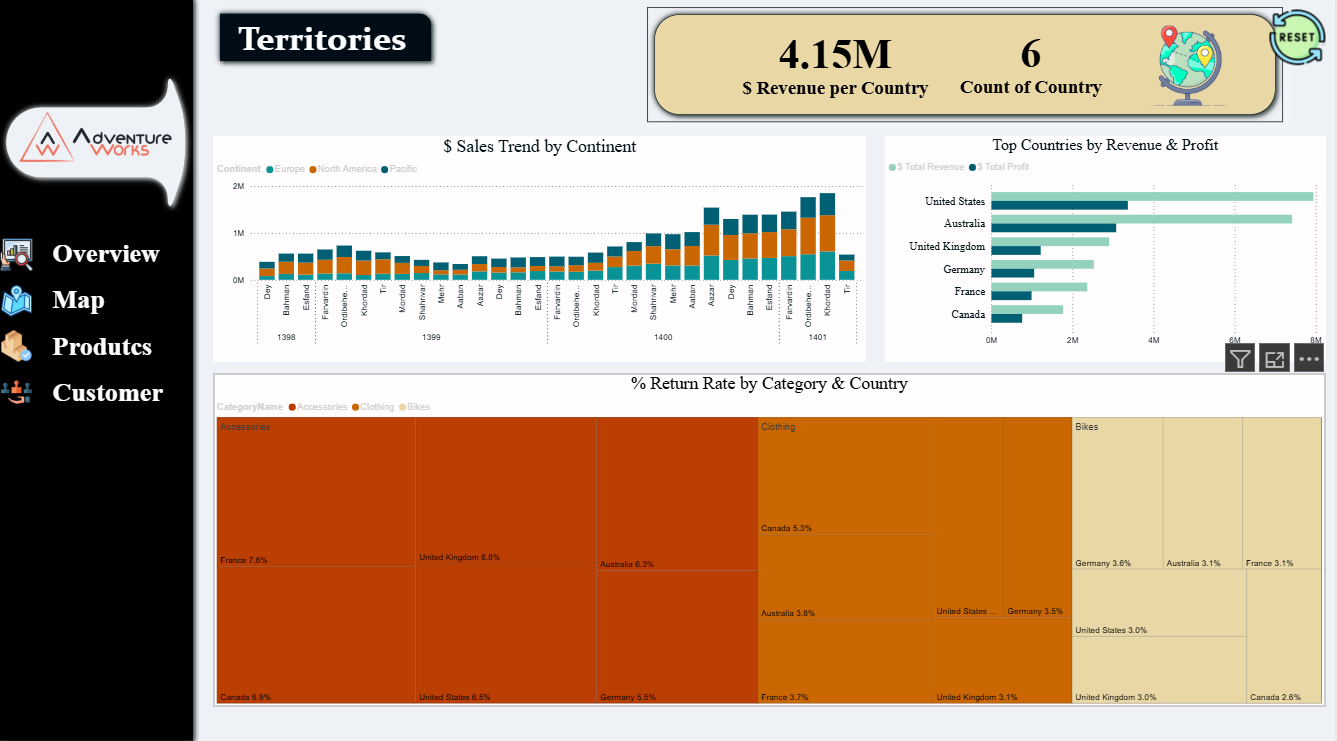

What the dashboard file says about the page in this screenshot:
{"tool":"powerbi","page":{"name":"Territories","canvas":[1920,1080],"ordinal":1},"visuals":[{"type":"shape","box":[0,0,297.5,1080],"z":0,"group":"g3"},{"type":"shape","box":[318,24,320,86],"z":0,"group":"g1"},{"type":"card","fields":{"Values":["Table Measure.$ Averege Revenue per Country"]},"box":[1038,6,338,186],"z":500,"group":"g2"},{"type":"shape","box":[12,98,286,236],"z":750,"group":"g3"},{"type":"image","box":[24,116,252,184],"z":875,"group":"g3"},{"type":"group","id":"g1","title":"Page Name","box":[318,24,320,95],"z":1000},{"type":"card","fields":{"Values":["Count(Territory Lookup.Country)"]},"box":[1336,28,300,142],"z":1000,"group":"g2"},{"type":"textbox","box":[348,34,270,85],"z":1000,"group":"g1"},{"type":"textbox","box":[64,348,234,56],"z":1000,"group":"g3"},{"type":"clusteredBarChart","title":"Top Countries by Revenue & Profit","fields":{"Y":["Table Measure.$ Total Revenue","Table Measure.$ Total Profit"],"Category":["Territory Lookup.Country"]},"box":[1276,208,630,322],"z":1001},{"type":"lineStackedColumnComboChart","title":"$ Sales Trend by Continent","fields":{"Category":["Date Lookup.Persian Date Hierarchy.PersianYear","Date Lookup.Persian Date Hierarchy.PersianMonthNameEn","Date Lookup.Persian Date Hierarchy.PersianDayNumberOfMonth"],"Y":["Table Measure.$ Total Revenue"],"Series":["Territory Lookup.Territory Hierarchy.Continent"]},"box":[318,208,932,322],"z":1002},{"type":"treemap","title":"% Return Rate by Category & Country","fields":{"Group":["Product Categories Lookup.CategoryName"],"Values":["Table Measure.% Return Rate"],"Details":["Territory Lookup.Country"]},"box":[318,546,1588,476],"z":1003},{"type":"shape","box":[938,24,908,164],"z":1004},{"type":"image","box":[1608,44,212,124],"z":1005},{"type":"group","id":"g2","title":"Total Order","box":[1038,6,598,186],"z":1006},{"type":"actionButton","box":[1814,6,104,122],"z":1007},{"type":"group","id":"g3","title":"Navigate","box":[0,0,298,1080],"z":1008},{"type":"textbox","box":[64,414,234,56],"z":3000,"group":"g3"},{"type":"textbox","box":[64.7,480,233.3,56.7],"z":4000,"group":"g3"},{"type":"textbox","box":[64.7,546.7,233.3,55],"z":5000,"group":"g3"},{"type":"image","box":[0,413.9,73.3,56.7],"z":6000,"group":"g3"},{"type":"image","box":[0,545,73.3,56.7],"z":7000,"group":"g3"},{"type":"image","box":[0,348.3,73.3,56.7],"z":8000,"group":"g3"},{"type":"image","box":[0,479.4,73.3,56.7],"z":9000,"group":"g3"}]}

Visuals, with their boxes on the page's 1920x1080 design canvas (x1, y1, x2, y2). These are canvas units, not pixel positions in the 1337x741 screenshot, which may show the page scaled, cropped or inside an application window:
shape: [left=0, top=0, right=298, bottom=1080]
shape: [left=318, top=24, right=638, bottom=110]
card - Table Measure.$ Averege Revenue per Country: [left=1038, top=6, right=1376, bottom=192]
shape: [left=12, top=98, right=298, bottom=334]
image: [left=24, top=116, right=276, bottom=300]
"Page Name" group: [left=318, top=24, right=638, bottom=119]
card - Count(Territory Lookup.Country): [left=1336, top=28, right=1636, bottom=170]
textbox: [left=348, top=34, right=618, bottom=119]
textbox: [left=64, top=348, right=298, bottom=404]
"Top Countries by Revenue & Profit" clusteredBarChart: [left=1276, top=208, right=1906, bottom=530]
"$ Sales Trend by Continent" lineStackedColumnComboChart: [left=318, top=208, right=1250, bottom=530]
"% Return Rate by Category & Country" treemap: [left=318, top=546, right=1906, bottom=1022]
shape: [left=938, top=24, right=1846, bottom=188]
image: [left=1608, top=44, right=1820, bottom=168]
"Total Order" group: [left=1038, top=6, right=1636, bottom=192]
actionButton: [left=1814, top=6, right=1918, bottom=128]
"Navigate" group: [left=0, top=0, right=298, bottom=1080]
textbox: [left=64, top=414, right=298, bottom=470]
textbox: [left=65, top=480, right=298, bottom=537]
textbox: [left=65, top=547, right=298, bottom=602]
image: [left=0, top=414, right=73, bottom=471]
image: [left=0, top=545, right=73, bottom=602]
image: [left=0, top=348, right=73, bottom=405]
image: [left=0, top=479, right=73, bottom=536]
